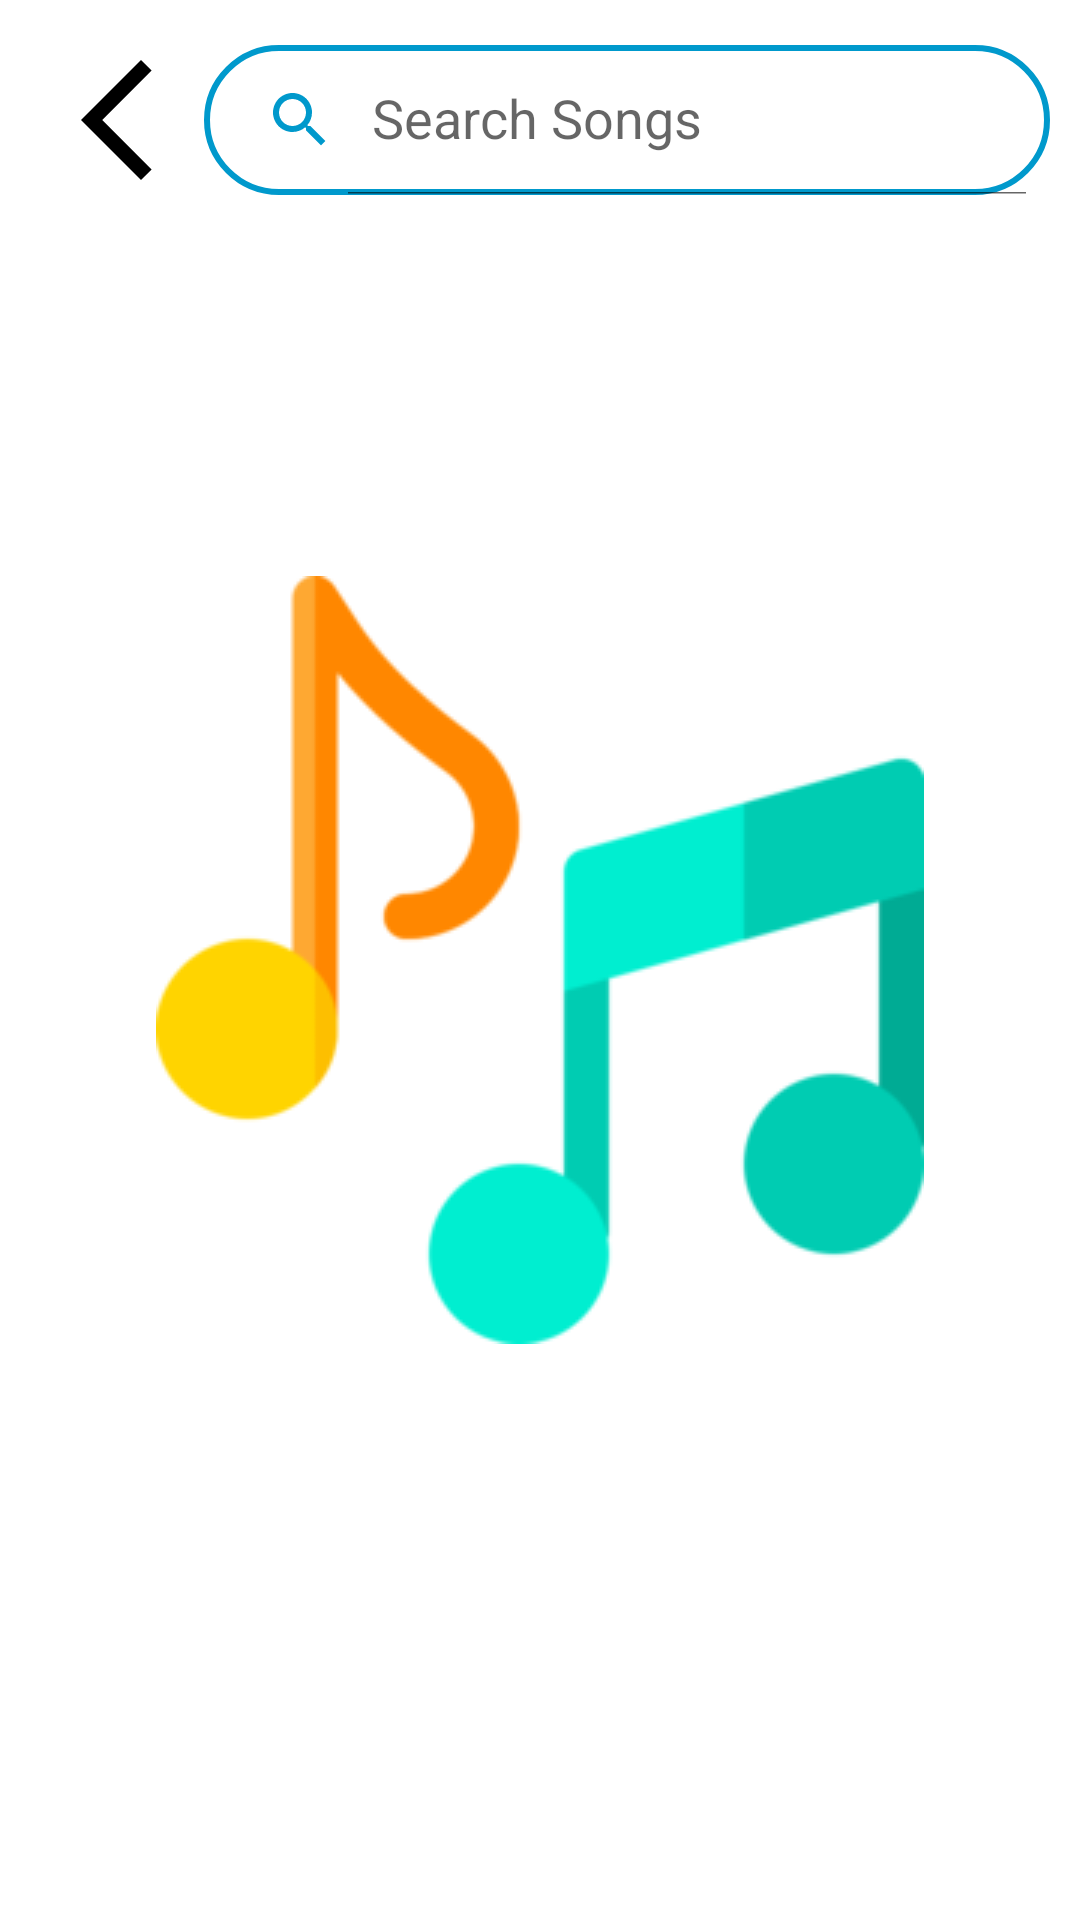

Where to tap for icons on this 1080 x 1920 app screen, as point (x, y):
Go back: point (116, 120)
